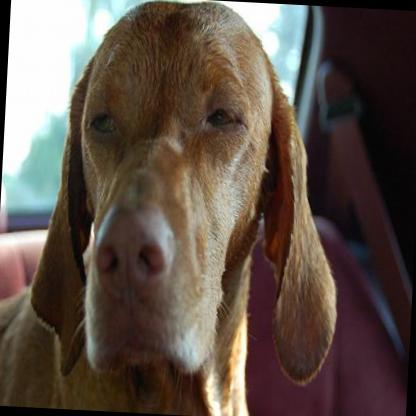vizsla: (0, 0, 351, 416)
